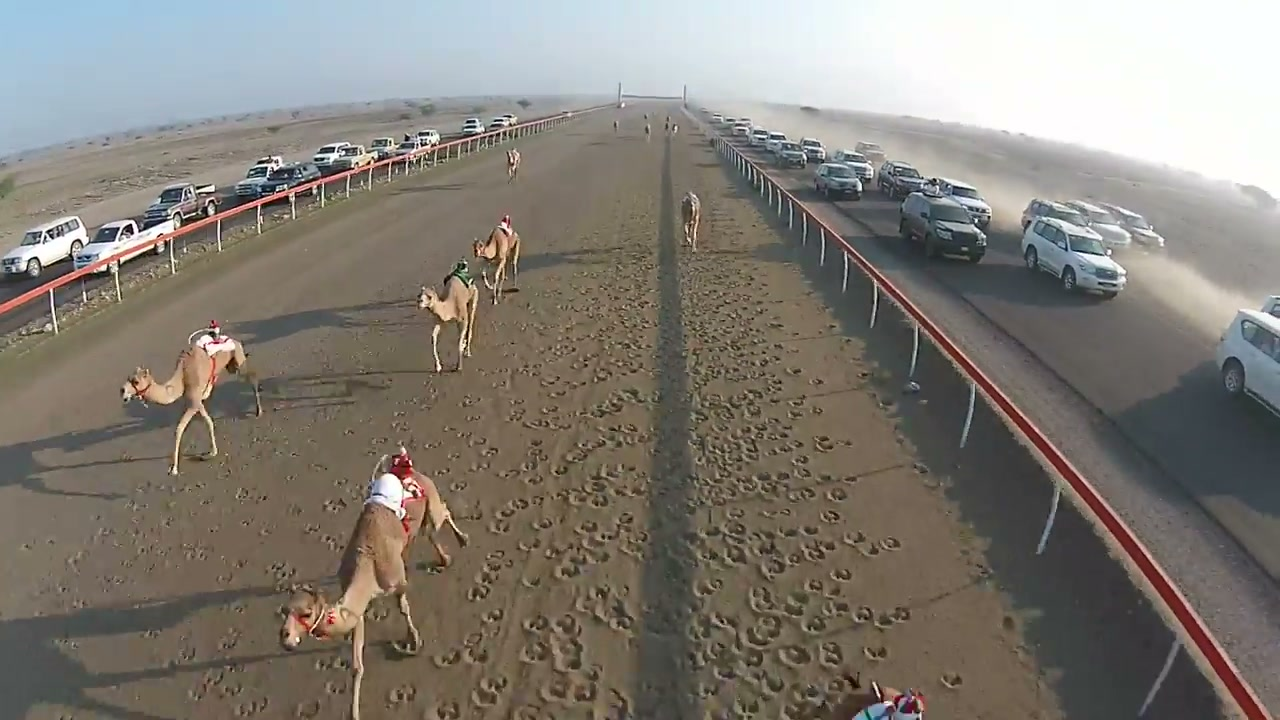animal_footprint: (351, 186, 985, 719)
